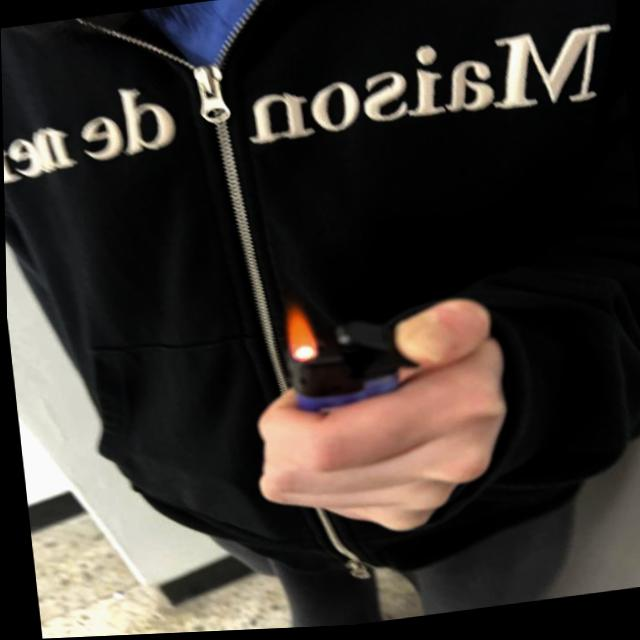helmet: (276, 298, 319, 369)
